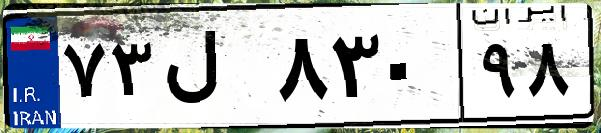0: (385, 28, 445, 110)
3: (330, 28, 385, 110), (110, 28, 158, 98)
7: (57, 26, 110, 100)
8: (270, 28, 330, 110), (525, 38, 570, 115)
9: (475, 38, 525, 113)
ل: (158, 20, 270, 120)
